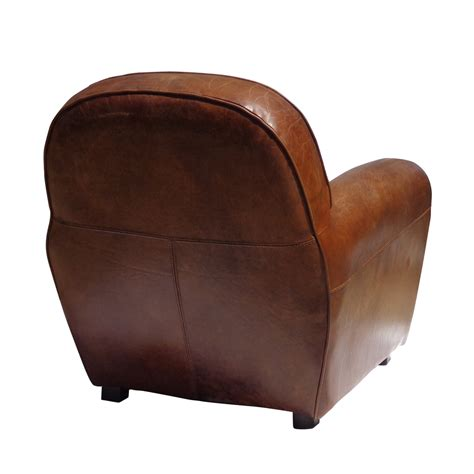cuero: (45, 71, 433, 431)
